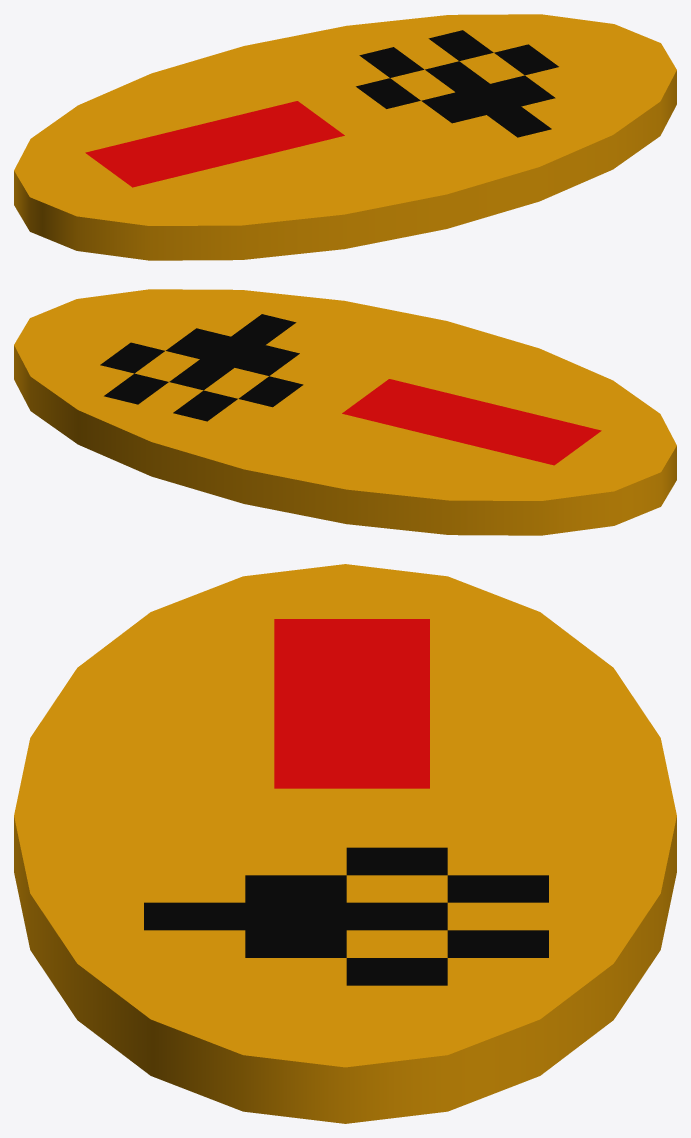
Rendered from shrinkUpObj.fbx.
3 views of the same model, one above another, from view 1: azimuth 30°, elevation 25°; view 2: azimuth 150°, elevation 25°; view 3: azimuth 270°, elevation 25° (orthographic). The views are drawn at different scales.
Visible parts, largest first — view 1: shrinkUpObj; view 2: shrinkUpObj; view 3: shrinkUpObj.
Boxes of the visible parts, bbox=[...] form: shrinkUpObj: bbox=[14, 14, 676, 260]; shrinkUpObj: bbox=[14, 289, 676, 535]; shrinkUpObj: bbox=[14, 564, 676, 1123].
Bounding box in the file's own units: 0.6115 × 0.0374 × 0.3403.
